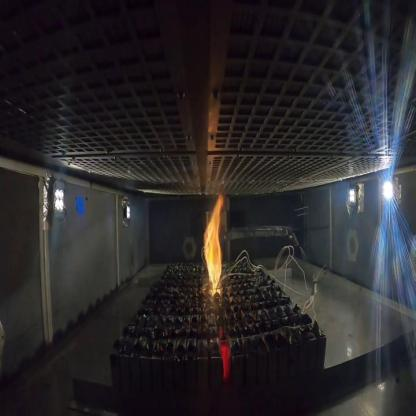fire: (201, 196, 229, 295)
